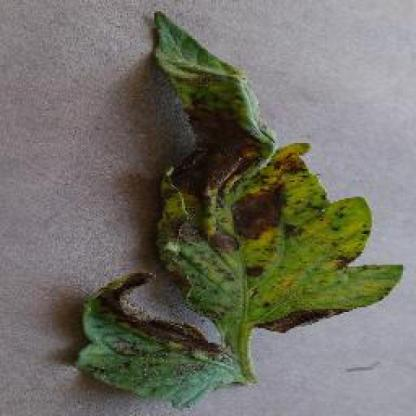Tomato_Blight: (77, 12, 404, 407)
